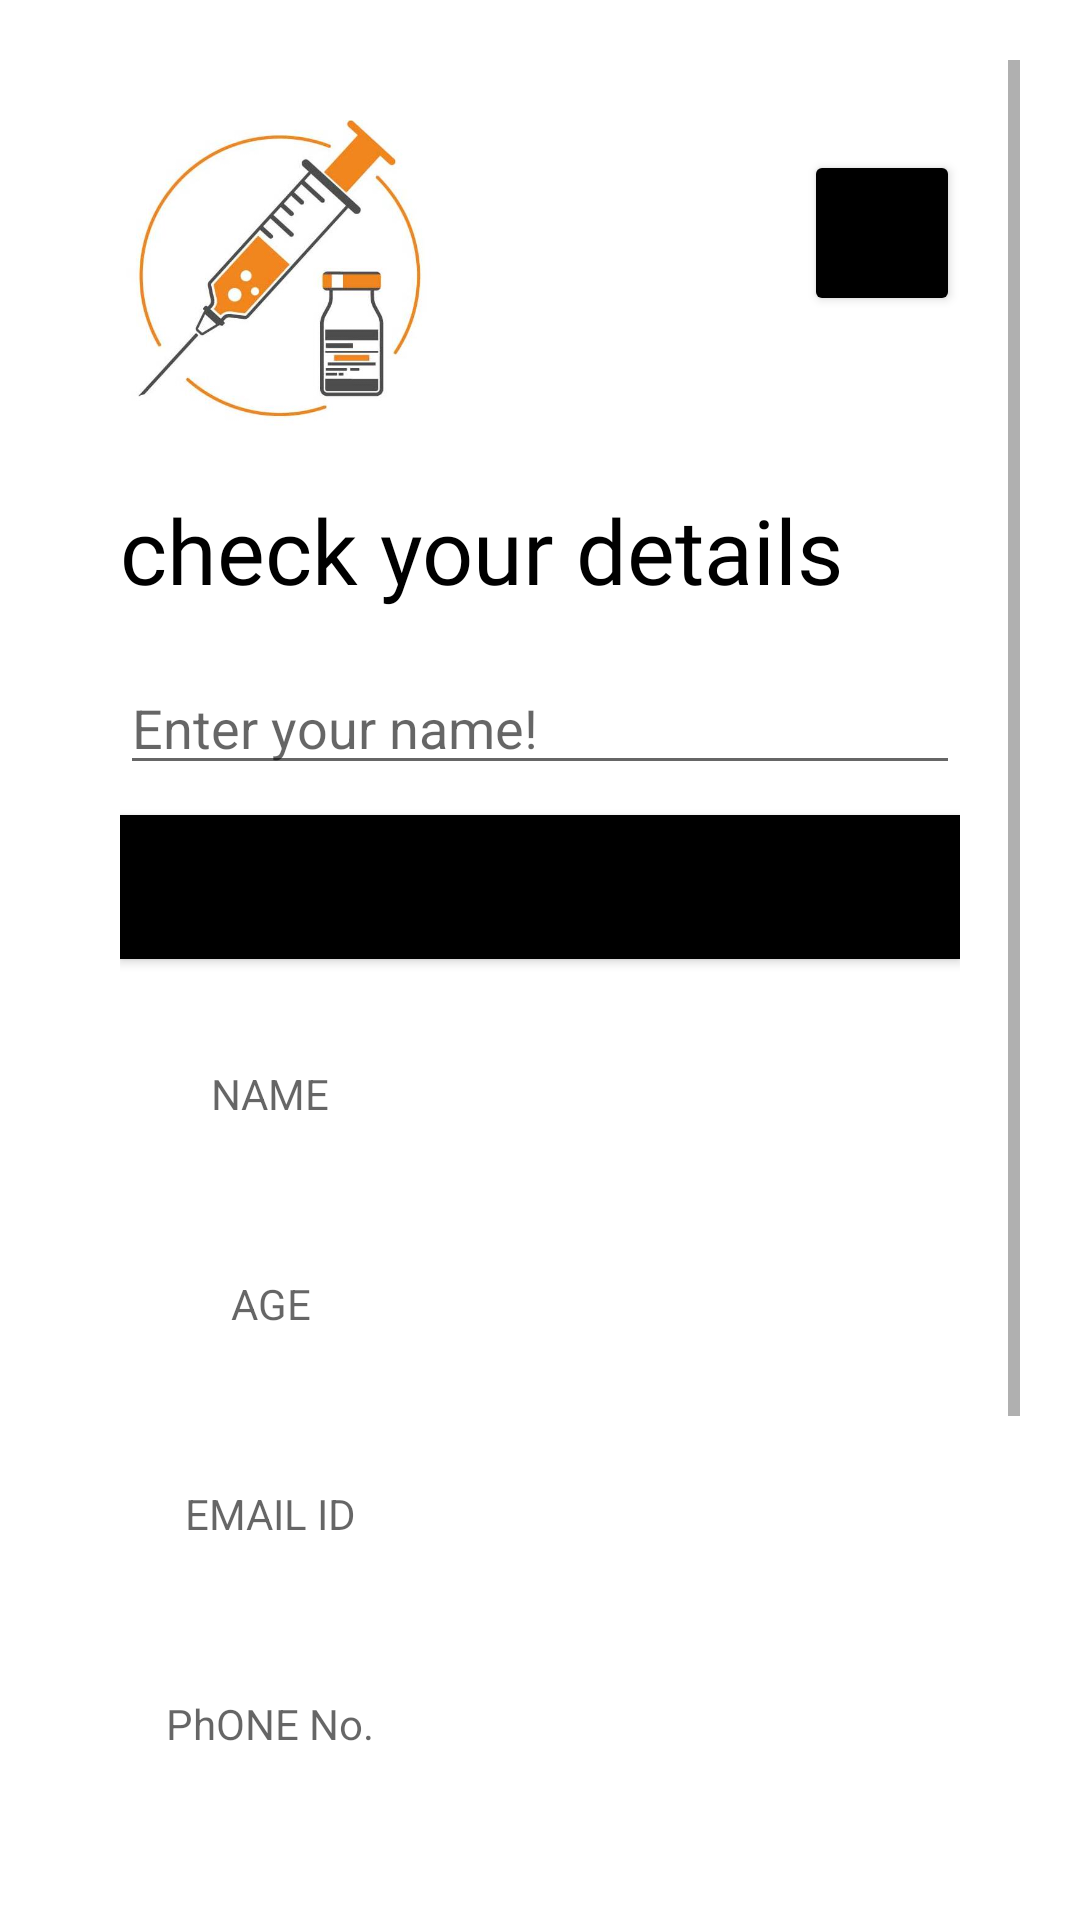

Icons on this 1080px×1920px Android screen, each with its box as (x1, y1, x2, y2):
vacbacrop: (138, 120, 421, 417)
